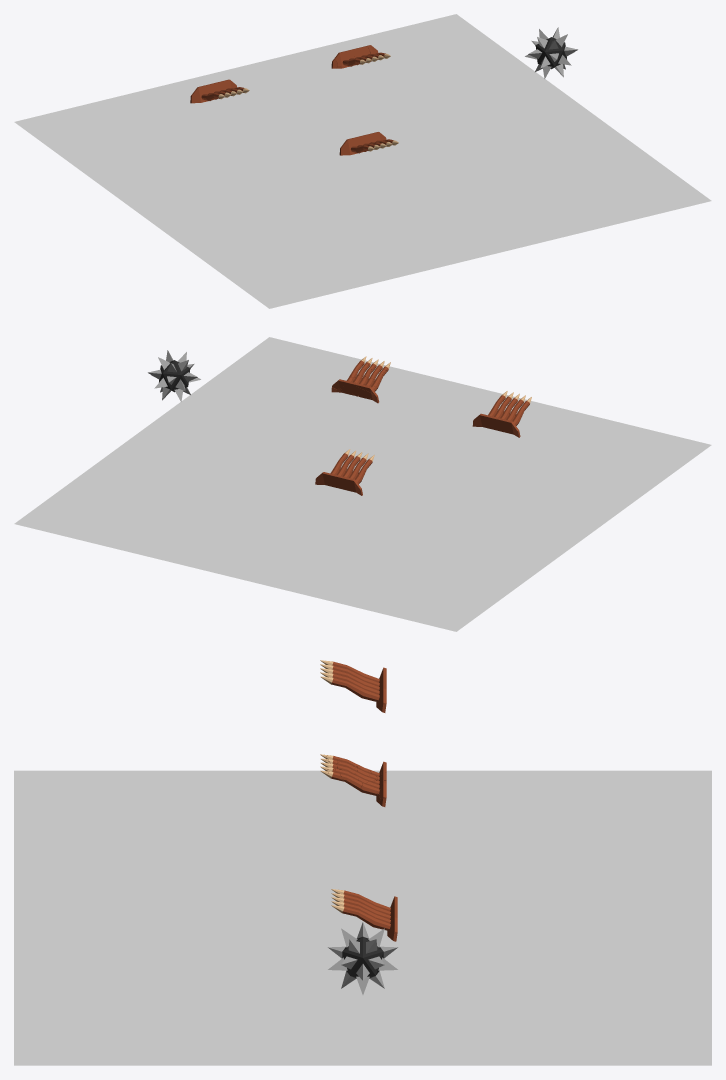
Rendered from Wooden Spikes Destructed.fbx.
3 views of the same model, one above another, from view 1: azimuth 30°, elevation 25°; view 2: azimuth 150°, elevation 25°; view 3: azimuth 270°, elevation 25° (orthographic). The views are drawn at different scales.
Parts seen in each view (by area): view 1: Plane, Floor, Spike Ball, Spikes Merged, Spikes Base; view 2: Plane, Floor, Spikes Merged, Spike Ball, Spikes, Spikes Base; view 3: Plane, Spike Ball, Spikes Merged, Spikes.
Part boxes in pixels (box(x1,y1,x2,y2)): Plane: box(14, 14, 711, 308); Floor: box(272, 123, 451, 198); Spike Ball: box(525, 27, 577, 78); Spikes Merged: box(190, 79, 249, 103); Spikes Base: box(339, 132, 386, 155); Plane: box(14, 337, 711, 631); Floor: box(272, 446, 453, 522); Spikes Merged: box(472, 391, 531, 437); Spike Ball: box(148, 350, 200, 401); Spikes: box(330, 449, 374, 484); Spikes Base: box(315, 472, 362, 495); Plane: box(14, 770, 711, 1065); Spike Ball: box(328, 922, 397, 994); Spikes Merged: box(320, 660, 386, 712); Spikes: box(331, 889, 390, 930).
Bounding box in the file's own units: 767 × 189 × 767.
